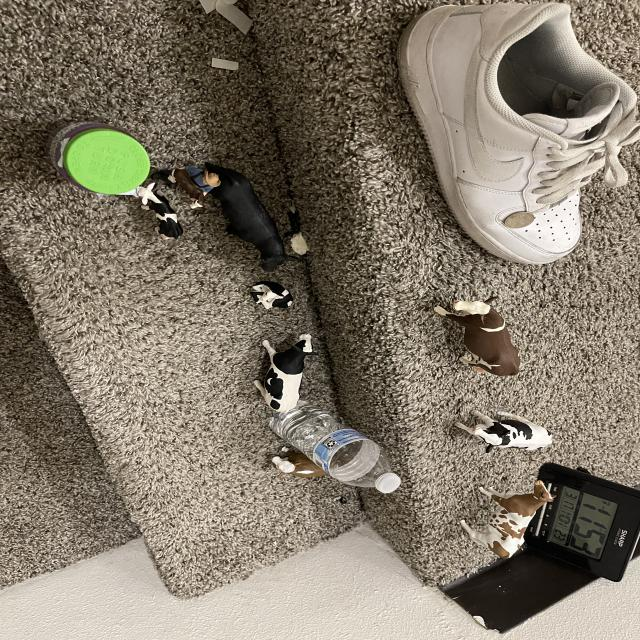cow: (190, 148, 297, 280), (454, 455, 557, 565), (433, 284, 526, 395), (251, 327, 317, 417), (454, 407, 555, 454), (132, 178, 188, 245), (269, 444, 331, 488), (170, 164, 210, 210), (251, 283, 293, 310)
person: (184, 159, 215, 197)
